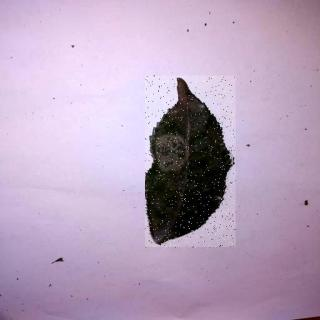Anthracnose: (146, 77, 237, 249)
